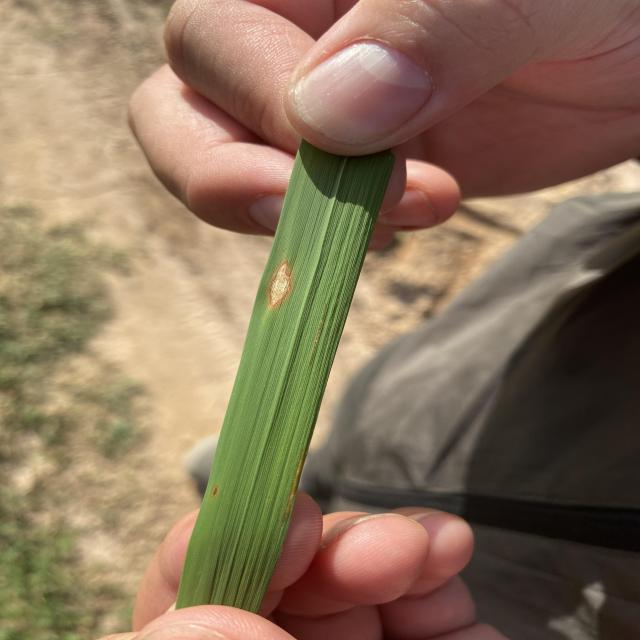Dao on: (268, 260, 292, 308)
